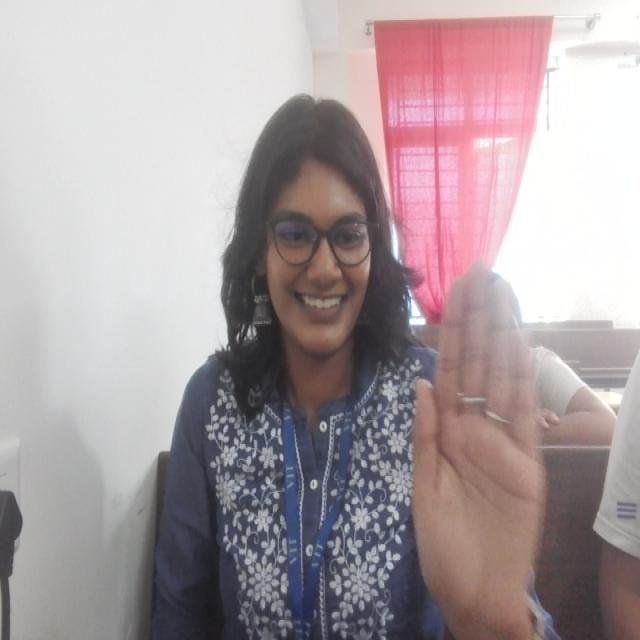hello: (409, 259, 548, 622)
